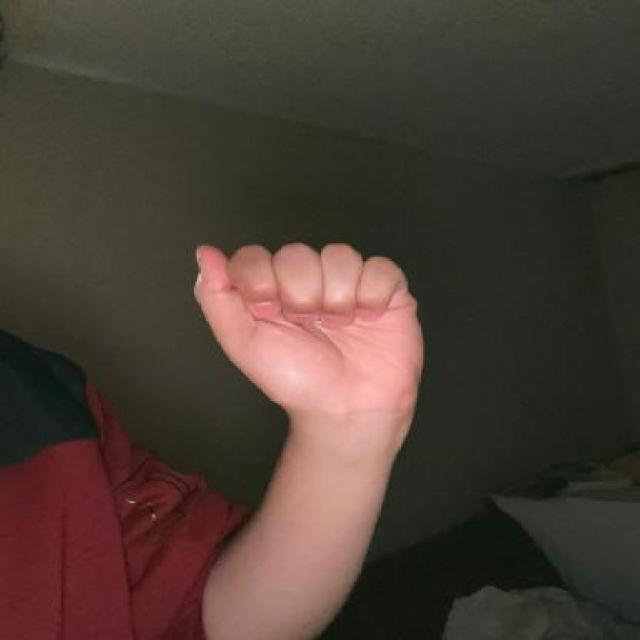A: (176, 236, 442, 427)
